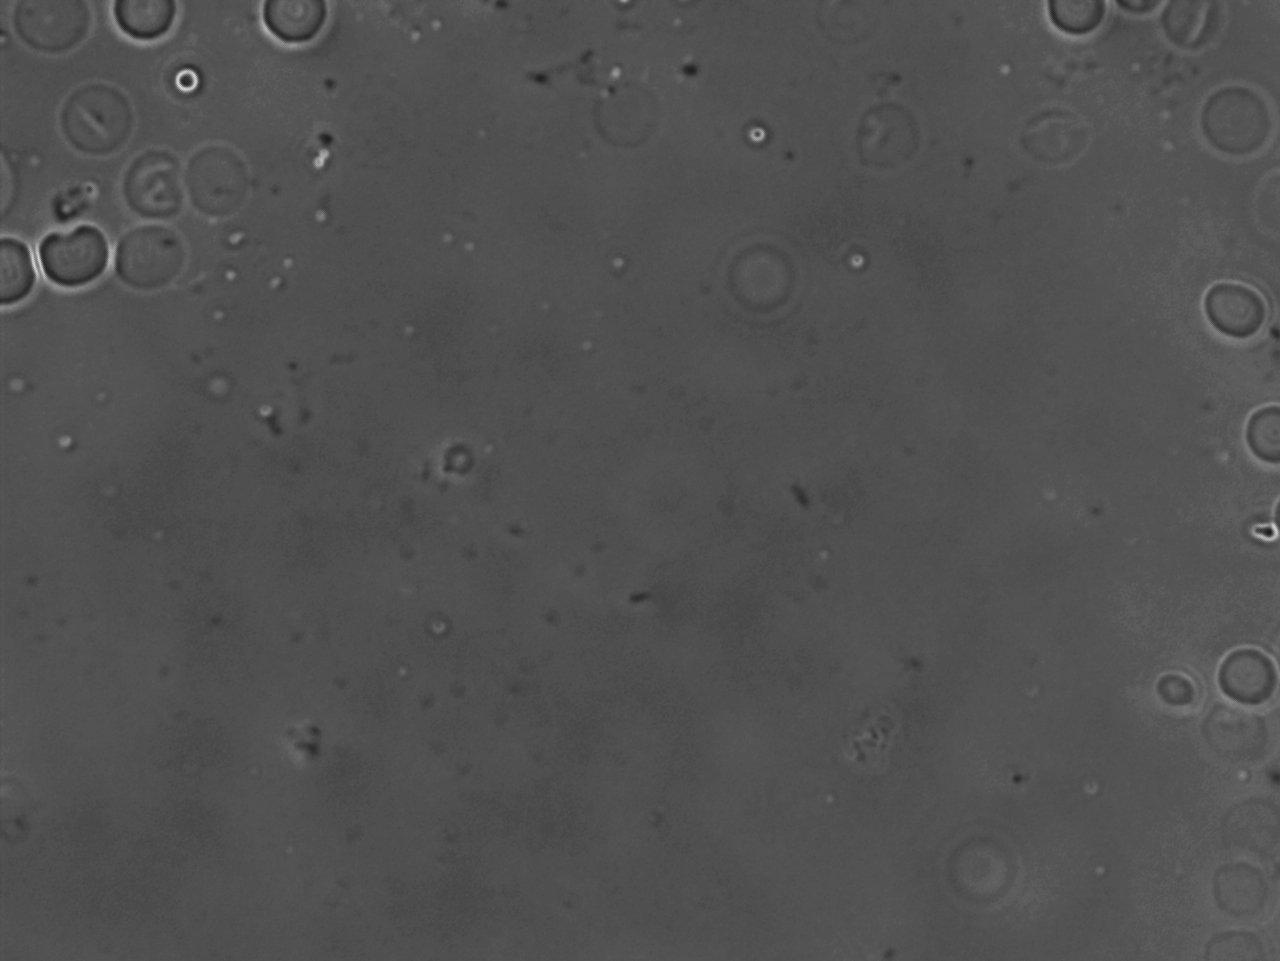depth:0: (28, 216, 131, 305), (1193, 269, 1277, 366), (1209, 632, 1280, 719), (1228, 389, 1280, 479)
